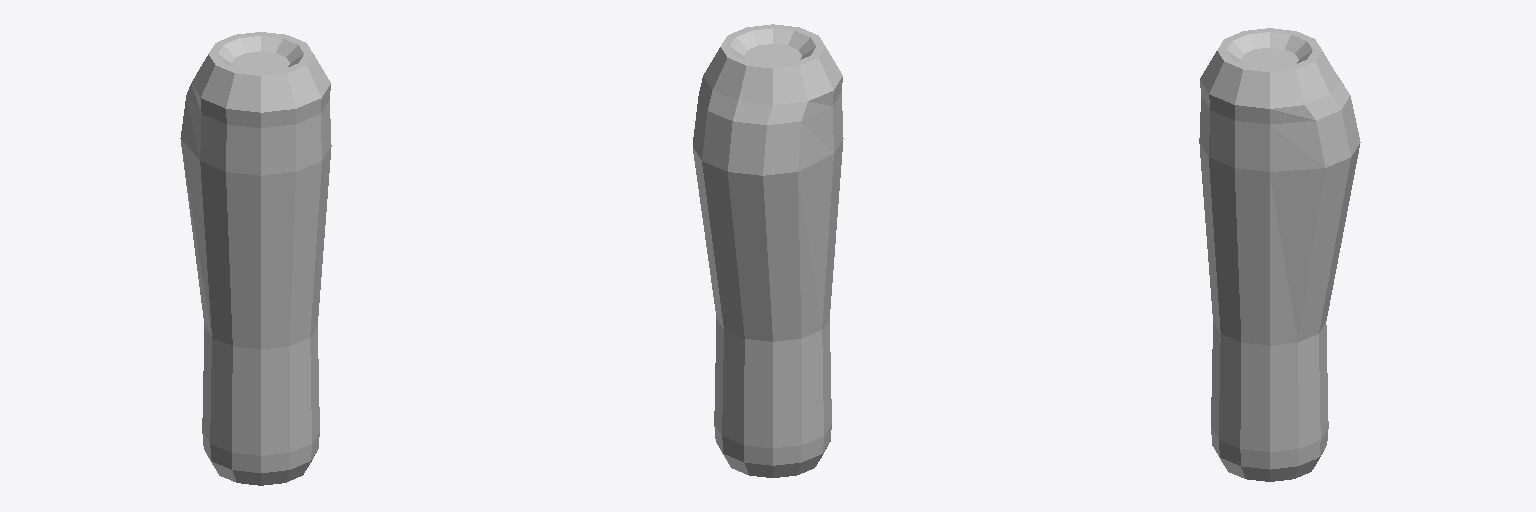
File: dummylowerleg.obj
The picture shows the model from 3 angles: view 1: azimuth 30°, elevation 25°; view 2: azimuth 150°, elevation 25°; view 3: azimuth 270°, elevation 25°; orthographic projection.
Parts seen in each view (by area): view 1: dummy_hips3_dummy_lpelvis_dummy_lupleg_dummy_lknee_dummy_ll.002; view 2: dummy_hips3_dummy_lpelvis_dummy_lupleg_dummy_lknee_dummy_ll.002; view 3: dummy_hips3_dummy_lpelvis_dummy_lupleg_dummy_lknee_dummy_ll.002.
Boxes of the visible parts, <box> form: dummy_hips3_dummy_lpelvis_dummy_lupleg_dummy_lknee_dummy_ll.002: <box>180,32,331,485</box>; dummy_hips3_dummy_lpelvis_dummy_lupleg_dummy_lknee_dummy_ll.002: <box>693,24,843,477</box>; dummy_hips3_dummy_lpelvis_dummy_lupleg_dummy_lknee_dummy_ll.002: <box>1199,28,1360,481</box>.
Bounding box in the file's own units: 11.19 × 36.08 × 12.82.